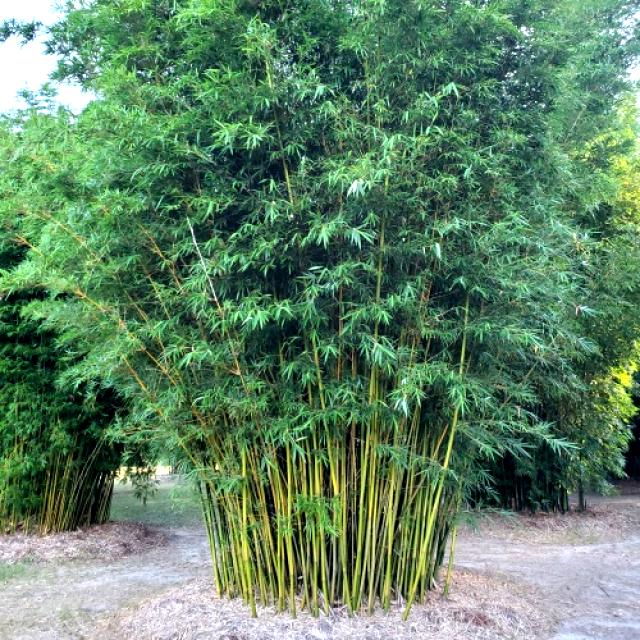Clumping: (126, 6, 556, 618), (0, 290, 114, 541)
